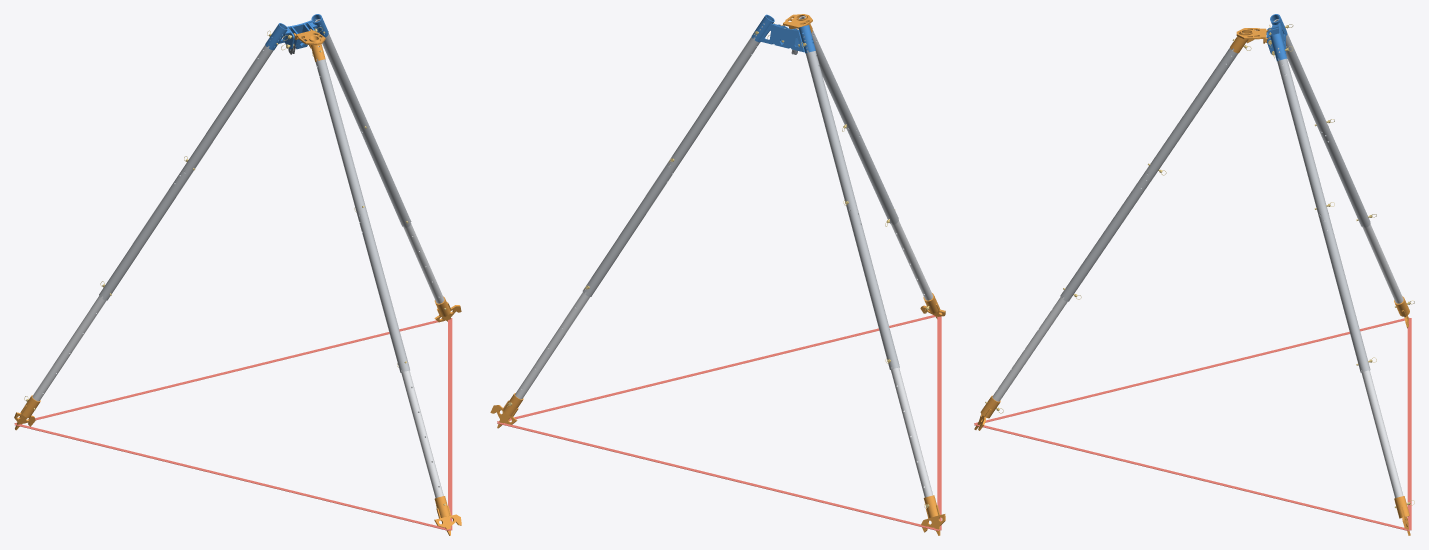
File: tripode_v7.glb
3 renders of one model, left to right at view 1: azimuth 30°, elevation 25°; view 2: azimuth 150°, elevation 25°; view 3: azimuth 270°, elevation 25°, orthographic.
Visible parts, largest first — view 1: n39_21G1, n41_21G2, n23_21I1, n25_21I2, n49_M3, n43_22G, n47_M1, n33_21D2, n31_21D1, n27_22I, n48_M2, n35_22D (+1 smaller); view 2: n23_21I1, n25_21I2, n31_21D1, n33_21D2, n47_M1, n48_M2, n27_22I, n35_22D, n41_21G2, n39_21G1, n49_M3, n43_22G (+2 smaller); view 3: n31_21D1, n33_21D2, n39_21G1, n41_21G2, n48_M2, n49_M3, n35_22D, n25_21I2, n43_22G, n23_21I1, n47_M1, n27_22I.
Boxes of the visible parts, bbox=[...] form: n39_21G1: bbox=[315, 46, 367, 217]; n41_21G2: bbox=[358, 214, 409, 372]; n23_21I1: bbox=[182, 34, 282, 175]; n25_21I2: bbox=[99, 170, 190, 300]; n49_M3: bbox=[14, 423, 450, 530]; n43_22G: bbox=[401, 369, 443, 498]; n47_M1: bbox=[14, 320, 438, 424]; n33_21D2: bbox=[361, 127, 411, 227]; n31_21D1: bbox=[315, 19, 369, 132]; n27_22I: bbox=[32, 296, 105, 401]; n48_M2: bbox=[448, 318, 452, 530]; n35_22D: bbox=[403, 224, 444, 303]; n23_21I1: bbox=[803, 36, 857, 211]; n25_21I2: bbox=[848, 208, 899, 369]; n31_21D1: bbox=[667, 23, 764, 169]; n33_21D2: bbox=[582, 164, 675, 296]; n47_M1: bbox=[497, 422, 939, 530]; n48_M2: bbox=[497, 315, 936, 422]; n27_22I: bbox=[891, 366, 932, 497]; n35_22D: bbox=[515, 292, 589, 399]; n41_21G2: bbox=[846, 124, 898, 224]; n39_21G1: bbox=[799, 16, 855, 129]; n49_M3: bbox=[937, 316, 941, 530]; n43_22G: bbox=[891, 221, 932, 300]; n31_21D1: bbox=[1277, 48, 1328, 216]; n33_21D2: bbox=[1319, 212, 1370, 372]; n39_21G1: bbox=[1145, 33, 1243, 177]; n41_21G2: bbox=[1060, 172, 1153, 301]; n48_M2: bbox=[974, 423, 1409, 530]; n49_M3: bbox=[974, 317, 1408, 423]; n35_22D: bbox=[1361, 369, 1403, 498]; n25_21I2: bbox=[1319, 126, 1370, 227]; n43_22G: bbox=[992, 297, 1067, 401]; n23_21I1: bbox=[1273, 19, 1328, 132]; n47_M1: bbox=[1407, 318, 1411, 530]; n27_22I: bbox=[1362, 224, 1403, 303].
Size of the model in its own units: 3005 by 2611 by 2568.
